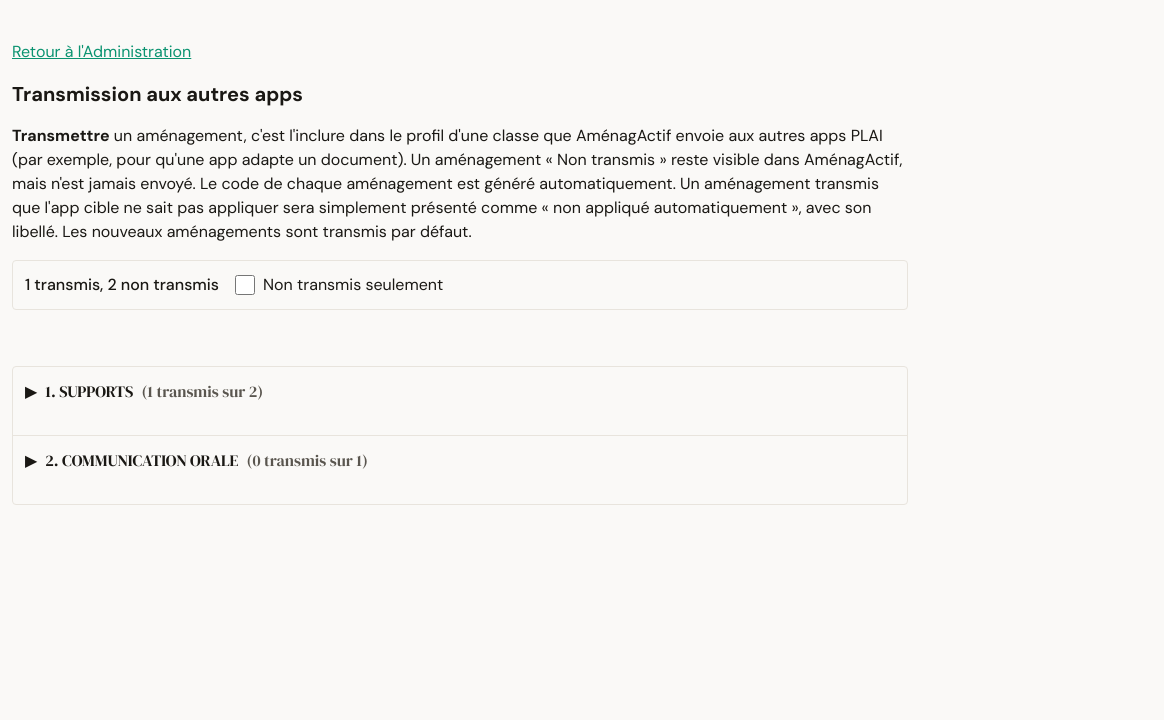
it: écran Transmission aux autres apps › sections repliables ; tableau avec en-têtes de colonnes et de lignes ; état énoncé en texte
The image size is (1164, 720).
Click the button "▶ 1. SUPPORTS (1 transmis sur 2)" at (89, 391), box top-left (13, 367), bottom-right (907, 415)
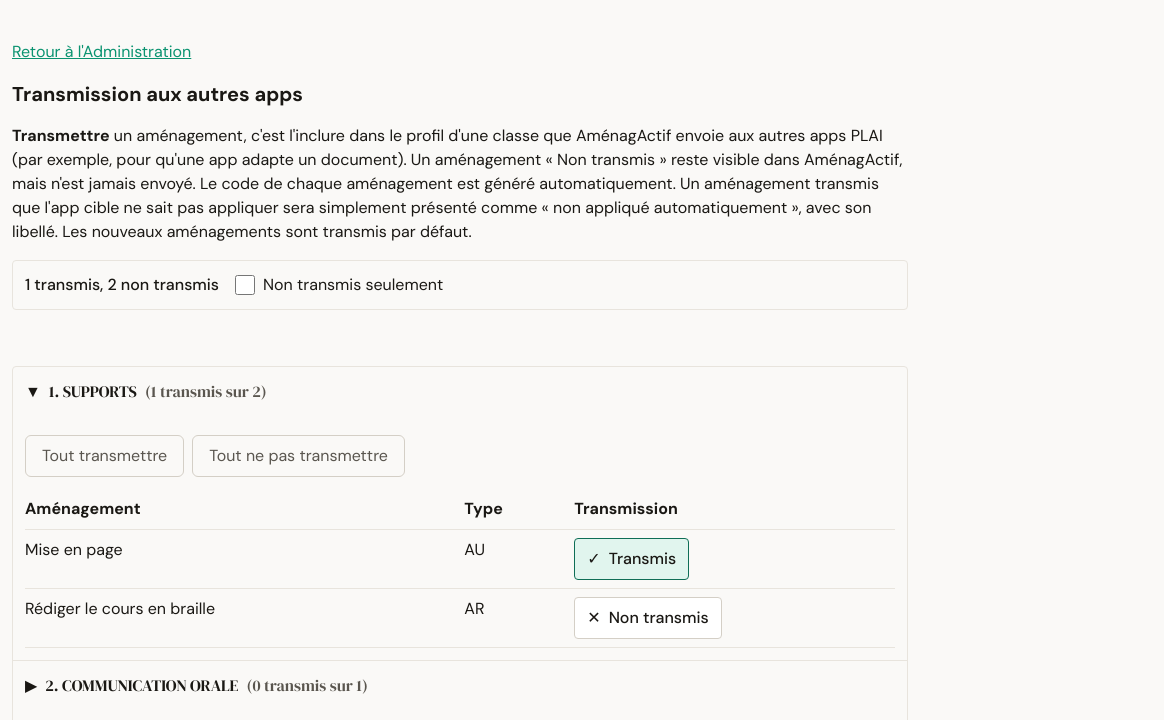
Now the button "▼ 1. SUPPORTS (1 transmis sur 2)" is expanded, box top-left (13, 367), bottom-right (907, 415)
Now the switch "Transmis" is shown, box top-left (574, 538), bottom-right (689, 580)
Now the switch "Non transmis" is shown, box top-left (574, 597), bottom-right (722, 639)
